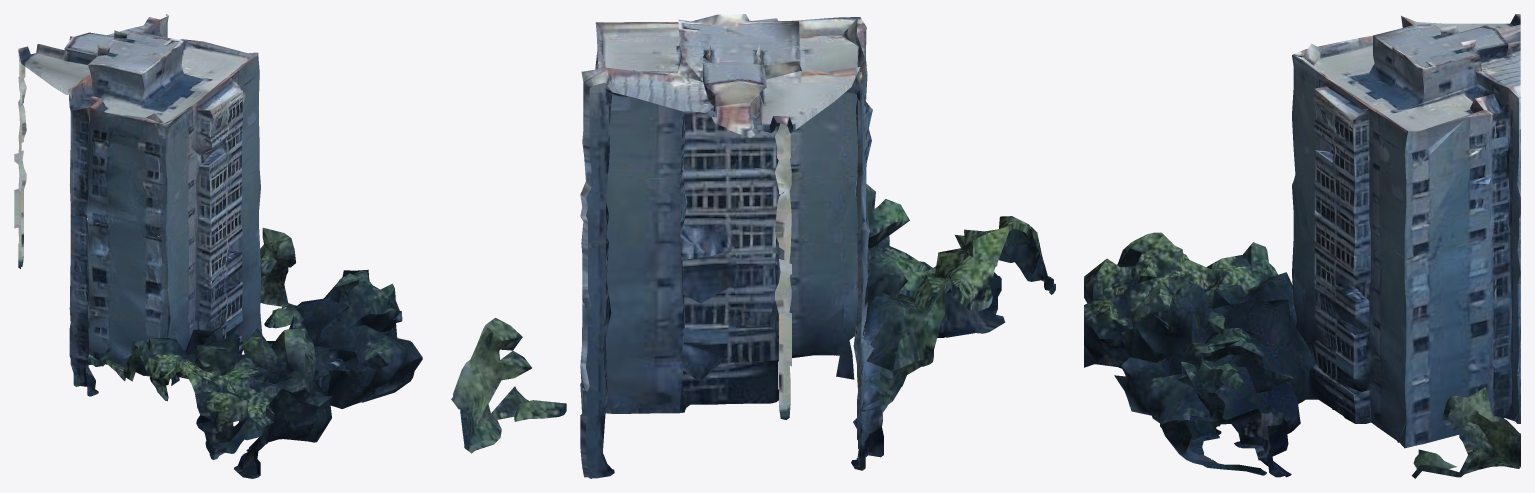
3 renders of one model, left to right at view 1: azimuth 30°, elevation 25°; view 2: azimuth 150°, elevation 25°; view 3: azimuth 270°, elevation 25°, orthographic. The views are drawn at different scales.
Visible parts, largest first — view 1: 30436272704361724736_0; view 2: 30436272704361724736_0; view 3: 30436272704361724736_0.
Part boxes in pixels (box(x1,y1,x2,y2)): 30436272704361724736_0: box(14, 14, 422, 478); 30436272704361724736_0: box(451, 14, 1055, 478); 30436272704361724736_0: box(1084, 14, 1520, 478).
Bounding box in the file's own units: 28.08 × 33.74 × 38.26.
1 material, 1 textured.
